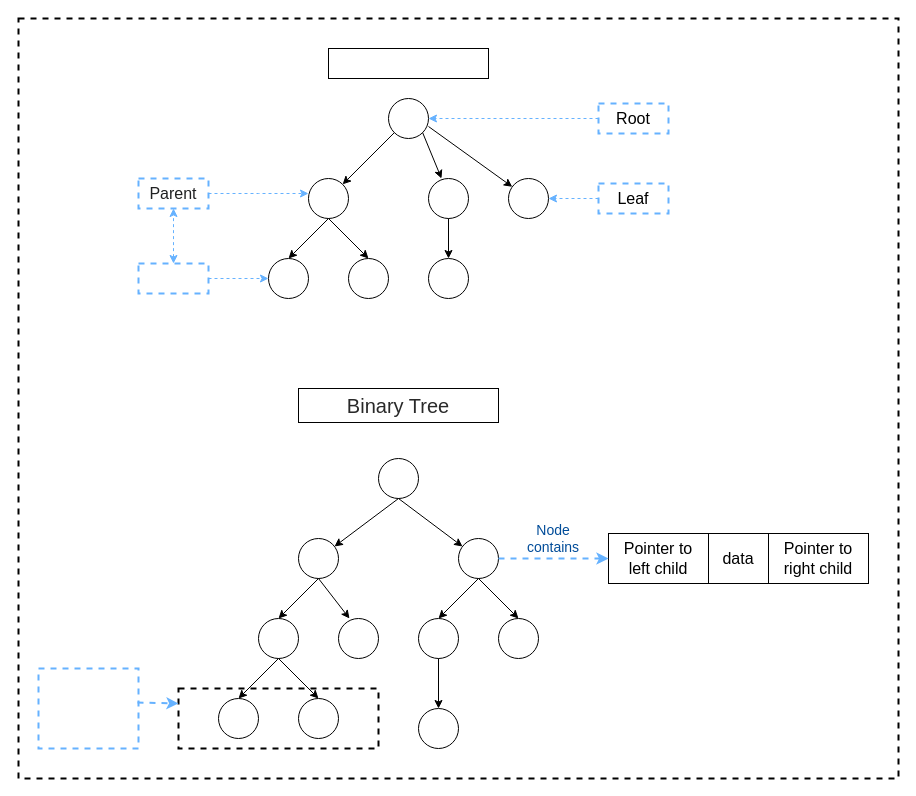
This 916x796 diagram has some shape labels left out. Here are the shapes that lost their labels. From the top down, the centre of each, then its label:
At (408,63): "Tree".
At (173,278): "Children".
At (88,708): "Two children and two max".
